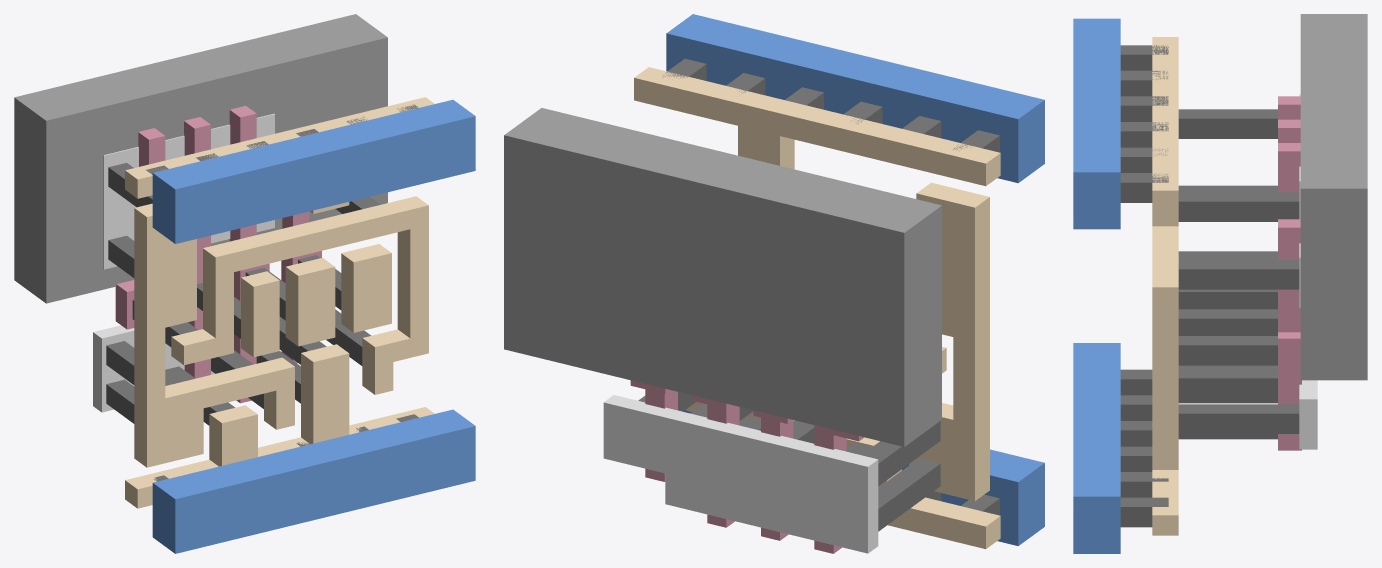
The model's file is sky130_fd_sc_hd__nor3b_1.gds.gltf.
The picture shows the model from 3 angles, left to right: view 1: azimuth 30°, elevation 25°; view 2: azimuth 150°, elevation 25°; view 3: azimuth 270°, elevation 25°; orthographic projection. The views are drawn at different scales.
Visible parts, largest first — view 1: sky130_fd_sc_hd__nor3b_1_li1, sky130_fd_sc_hd__nor3b_1_met1, sky130_fd_sc_hd__nor3b_1_nwell, sky130_fd_sc_hd__nor3b_1_licon, sky130_fd_sc_hd__nor3b_1_poly, sky130_fd_sc_hd__nor3b_1_diff, sky130_fd_sc_hd__nor3b_1_mcon; view 2: sky130_fd_sc_hd__nor3b_1_nwell, sky130_fd_sc_hd__nor3b_1_li1, sky130_fd_sc_hd__nor3b_1_met1, sky130_fd_sc_hd__nor3b_1_diff, sky130_fd_sc_hd__nor3b_1_licon, sky130_fd_sc_hd__nor3b_1_mcon, sky130_fd_sc_hd__nor3b_1_poly; view 3: sky130_fd_sc_hd__nor3b_1_licon, sky130_fd_sc_hd__nor3b_1_nwell, sky130_fd_sc_hd__nor3b_1_met1, sky130_fd_sc_hd__nor3b_1_li1, sky130_fd_sc_hd__nor3b_1_mcon, sky130_fd_sc_hd__nor3b_1_poly, sky130_fd_sc_hd__nor3b_1_diff.
Boxes of the visible parts, <box> form: sky130_fd_sc_hd__nor3b_1_li1: <box>125,97,434,508</box>; sky130_fd_sc_hd__nor3b_1_met1: <box>152,99,475,553</box>; sky130_fd_sc_hd__nor3b_1_nwell: <box>14,14,387,303</box>; sky130_fd_sc_hd__nor3b_1_licon: <box>106,162,380,425</box>; sky130_fd_sc_hd__nor3b_1_poly: <box>115,106,321,403</box>; sky130_fd_sc_hd__nor3b_1_diff: <box>93,113,274,412</box>; sky130_fd_sc_hd__nor3b_1_mcon: <box>146,104,418,481</box>; sky130_fd_sc_hd__nor3b_1_nwell: <box>504,108,941,446</box>; sky130_fd_sc_hd__nor3b_1_li1: <box>634,67,1000,549</box>; sky130_fd_sc_hd__nor3b_1_met1: <box>666,14,1044,546</box>; sky130_fd_sc_hd__nor3b_1_diff: <box>603,395,878,553</box>; sky130_fd_sc_hd__nor3b_1_licon: <box>638,392,940,531</box>; sky130_fd_sc_hd__nor3b_1_mcon: <box>662,58,999,515</box>; sky130_fd_sc_hd__nor3b_1_poly: <box>630,380,863,553</box>; sky130_fd_sc_hd__nor3b_1_licon: <box>1178,109,1299,439</box>; sky130_fd_sc_hd__nor3b_1_nwell: <box>1300,14,1367,380</box>; sky130_fd_sc_hd__nor3b_1_met1: <box>1073,18,1120,553</box>; sky130_fd_sc_hd__nor3b_1_li1: <box>1152,37,1178,535</box>; sky130_fd_sc_hd__nor3b_1_mcon: <box>1120,45,1168,527</box>; sky130_fd_sc_hd__nor3b_1_poly: <box>1278,96,1301,450</box>; sky130_fd_sc_hd__nor3b_1_diff: <box>1299,94,1317,449</box>.
Bounding box in the file's own units: 3.14 × 3.2 × 2.24.
